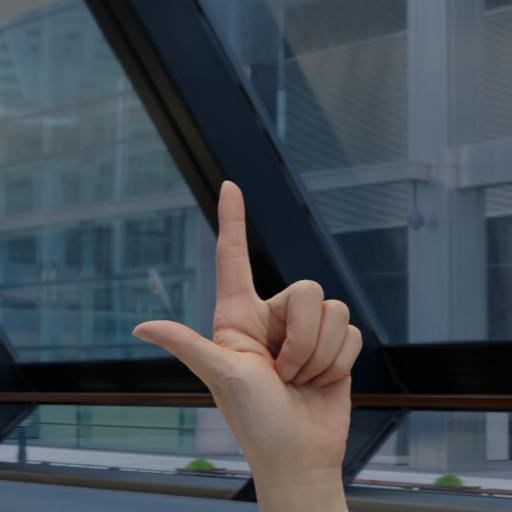L: (126, 178, 370, 472)
